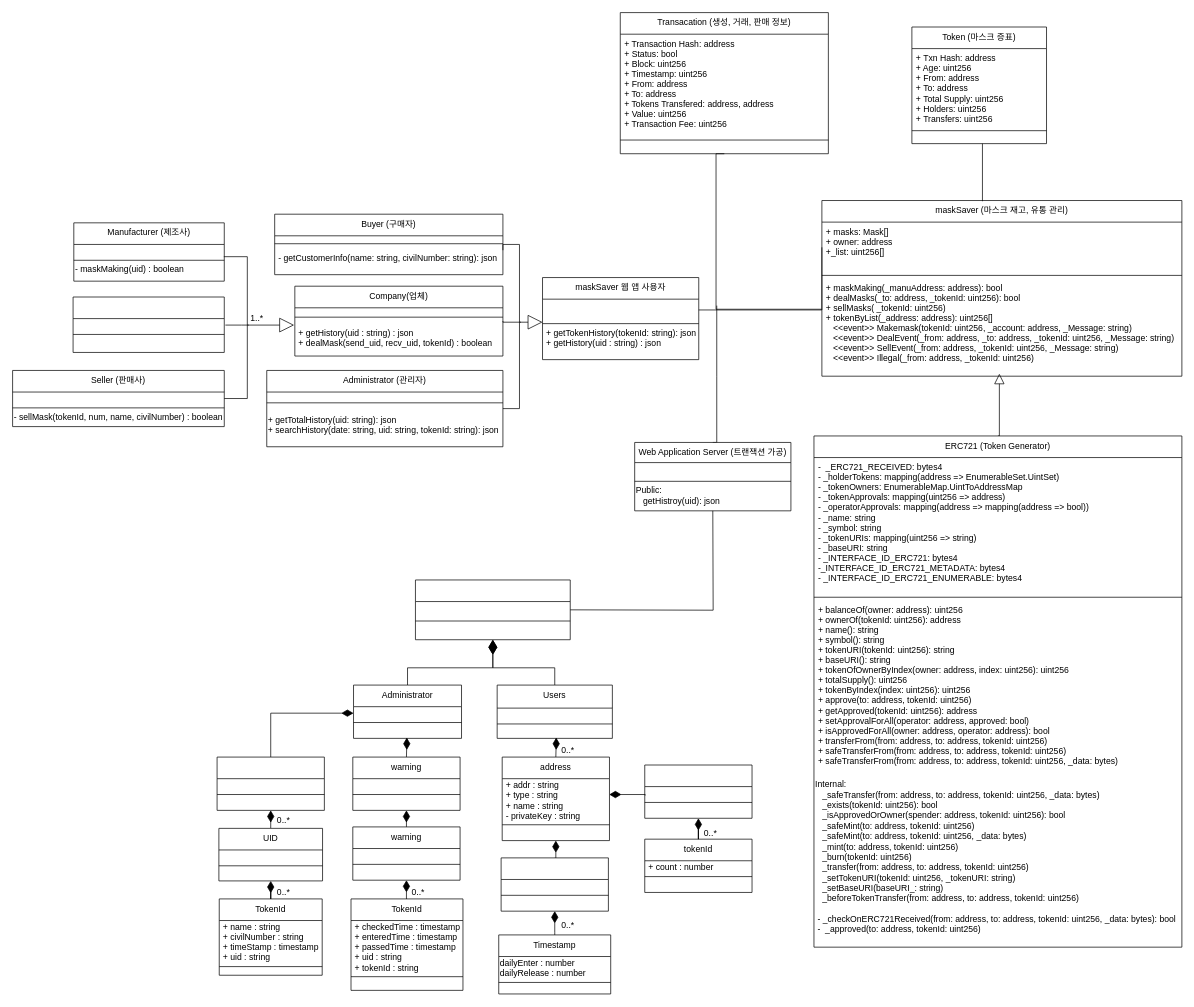
Some shapes in this 1194 by 1007 pixel diagram are drawn without their labels. Here are the shapes that lost their labels. From the top down, the centre of each, then its label:
At point 148,324: "Distributor (유통사)".
At point 492,609: "데이터베이스".
At point 270,783: "Purchase_record".
At point 698,791: "Inventory".
At point 554,884: "daily".
